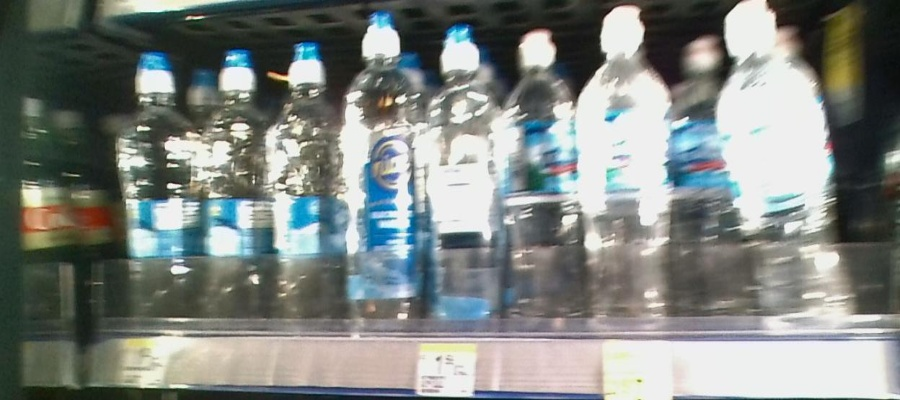bottle: (578, 7, 671, 328), (111, 48, 200, 325), (425, 19, 503, 332), (350, 11, 423, 339), (268, 45, 346, 342), (508, 15, 573, 328), (203, 43, 265, 336)
